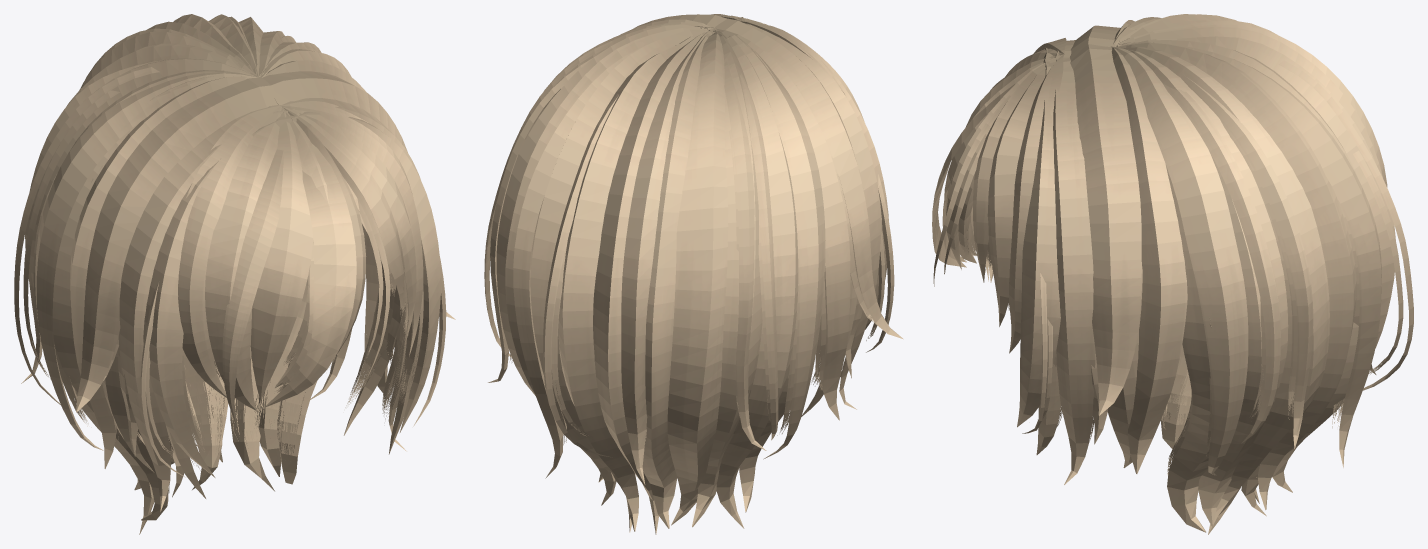
File: hair002.obj
3 views of the same model, side by side, from view 1: azimuth 30°, elevation 25°; view 2: azimuth 150°, elevation 25°; view 3: azimuth 270°, elevation 25° (orthographic). The views are drawn at different scales.
Visible parts, largest first — view 1: Hair001a, Hair001b; view 2: Hair001a, Hair001b; view 3: Hair001a, Hair001b.
Part boxes in pixels (left/top/right/bottom): Hair001a: left=14, top=14, right=455, bottom=534; Hair001b: left=23, top=90, right=423, bottom=493; Hair001a: left=484, top=14, right=903, bottom=534; Hair001b: left=510, top=82, right=884, bottom=443; Hair001a: left=932, top=14, right=1413, bottom=534; Hair001b: left=942, top=119, right=1403, bottom=477.
Bounding box in the file's own units: 20.53 × 25.11 × 22.89.
Materials: 2 (2 with a texture image).
